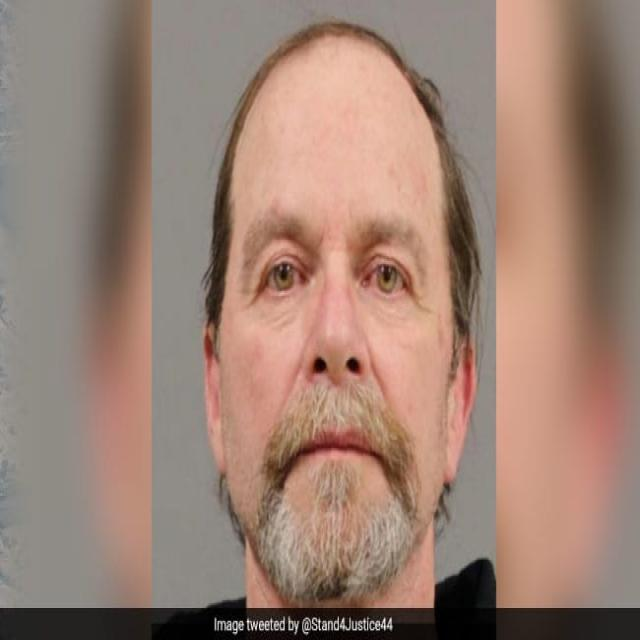human: (198, 14, 490, 603)
